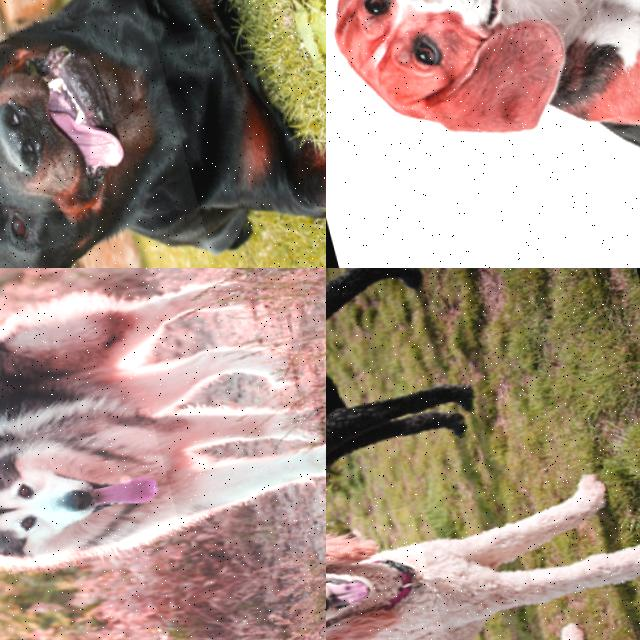beagle: (326, 0, 613, 185)
husky: (0, 409, 178, 594)
poodle: (326, 506, 443, 640)
rottweiler: (0, 0, 221, 268)
